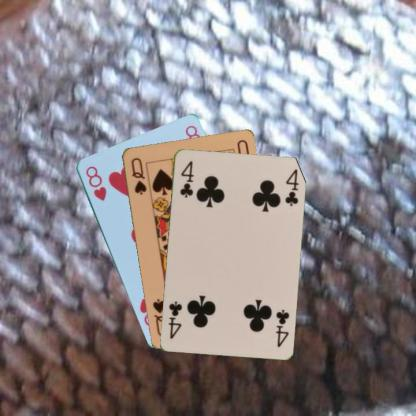4c: (272, 307, 290, 348), (177, 158, 195, 198)
8h: (82, 163, 107, 202)
Qs: (128, 154, 148, 196)
